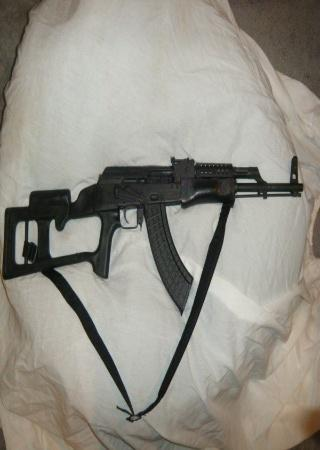weapon: (2, 156, 306, 315)
